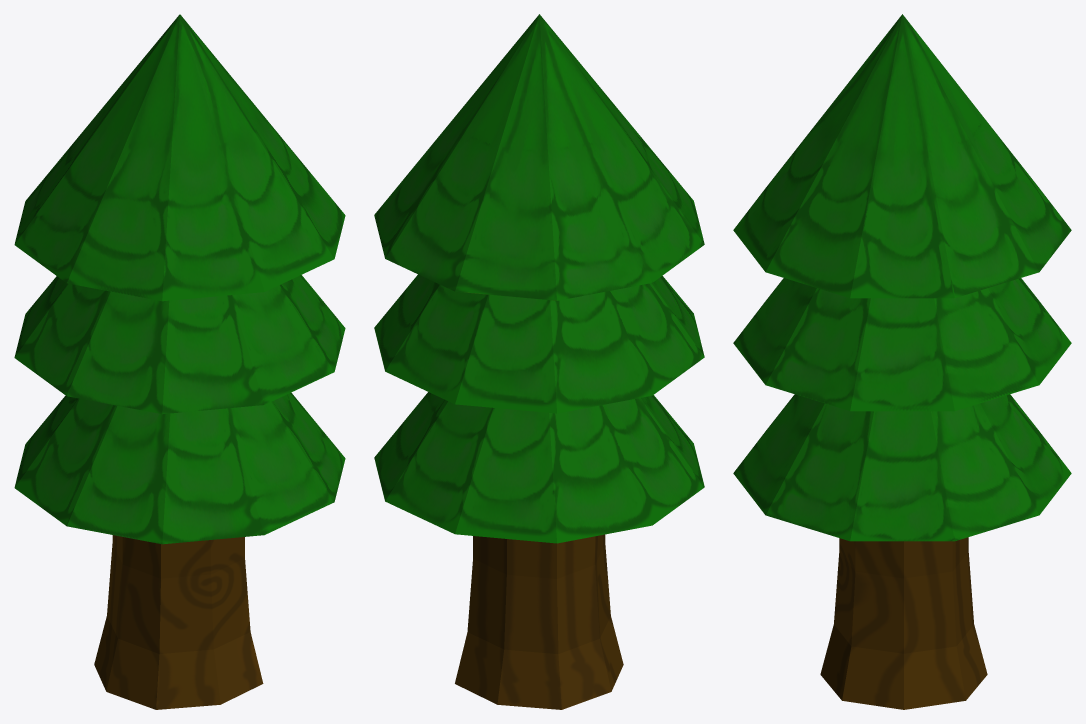
Rendered from tree.obj.
3 renders of one model, left to right at view 1: azimuth 30°, elevation 25°; view 2: azimuth 150°, elevation 25°; view 3: azimuth 270°, elevation 25°, orthographic.
Visible parts, largest first — view 1: Cube.001_Cube.002; view 2: Cube.001_Cube.002; view 3: Cube.001_Cube.002.
Part boxes in pixels (<box>): Cube.001_Cube.002: <box>14,14,345,709</box>; Cube.001_Cube.002: <box>374,14,704,709</box>; Cube.001_Cube.002: <box>733,14,1071,709</box>.
Bounding box in the file's own units: 0.9143 × 2.07 × 0.9614.
Materials: 1 (1 with a texture image).
